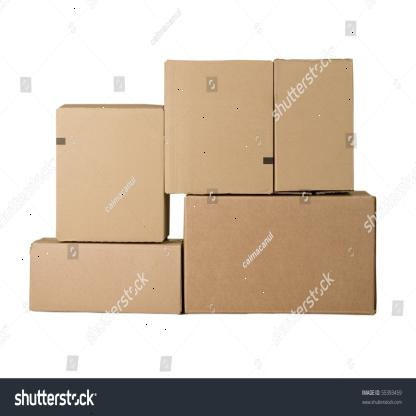box: (184, 194, 376, 314), (164, 58, 274, 195), (54, 109, 165, 243), (28, 238, 182, 312), (274, 59, 354, 194)
